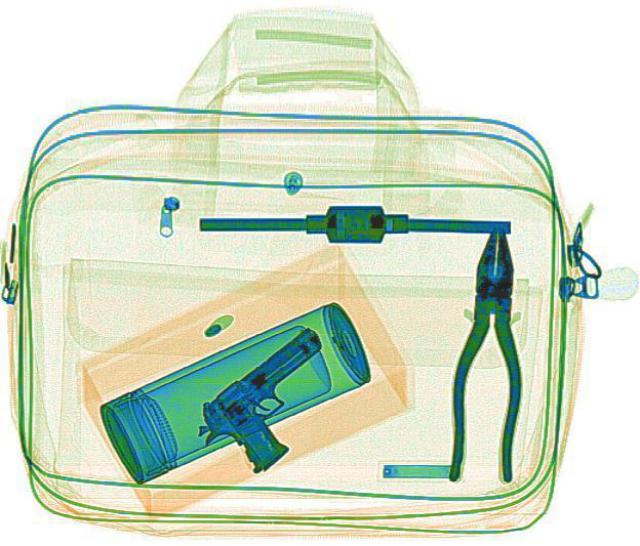Gun: (175, 321, 378, 478)
Pliers: (443, 225, 531, 481)
